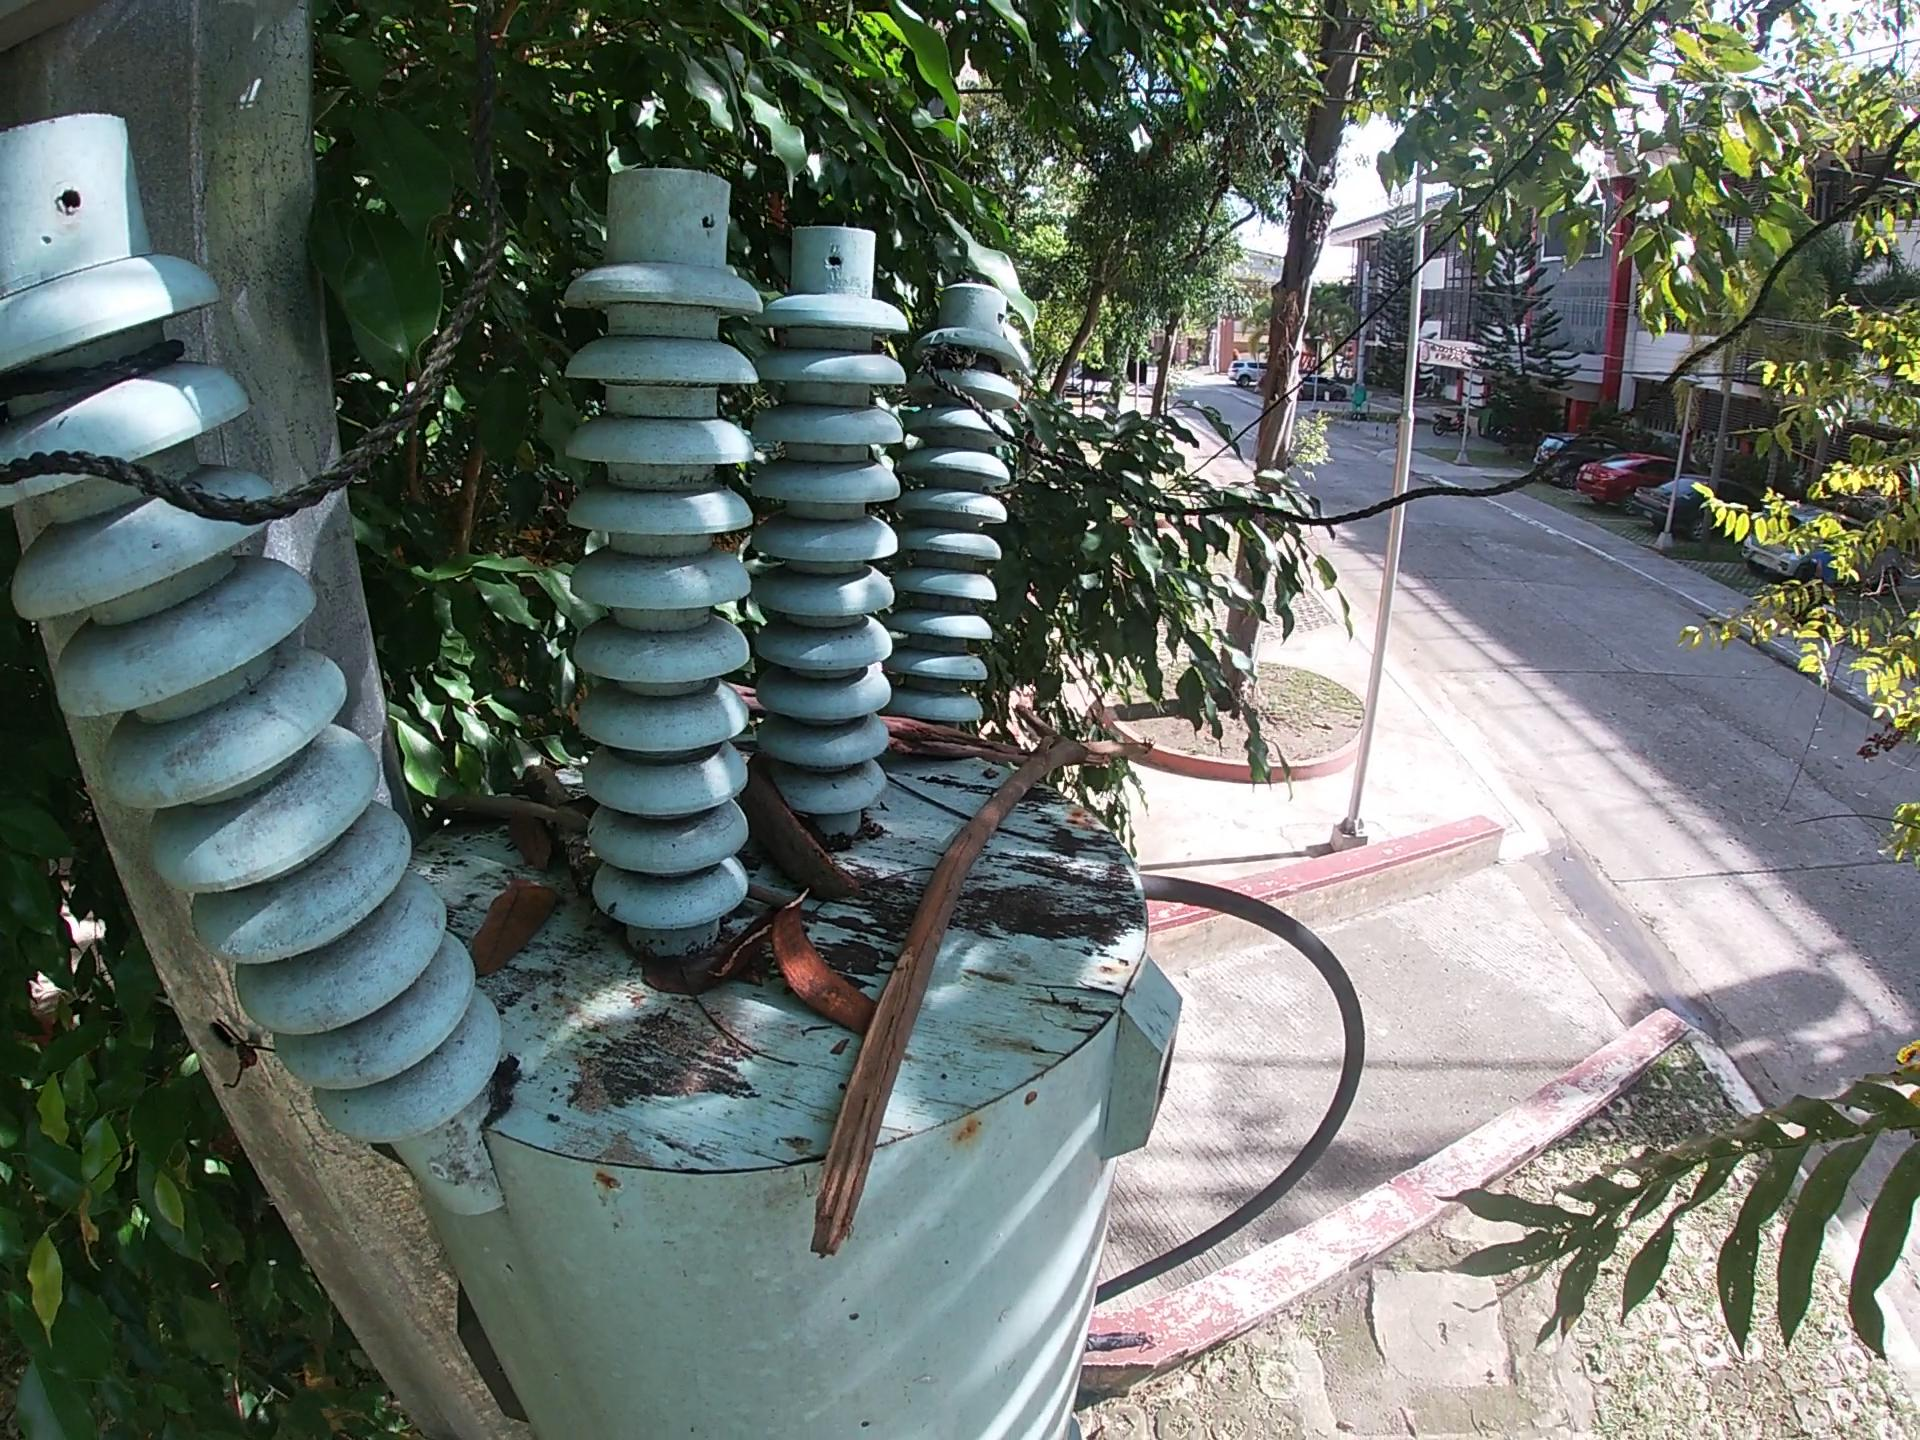leaf: (467, 871, 559, 985), (632, 944, 720, 998), (505, 812, 555, 871)
mahogany fruit: (741, 749, 862, 902), (773, 888, 880, 1041), (706, 902, 783, 979)
tree branch: (804, 697, 1163, 1262), (517, 759, 605, 909), (881, 709, 1028, 771), (423, 793, 594, 836), (744, 880, 800, 915)
